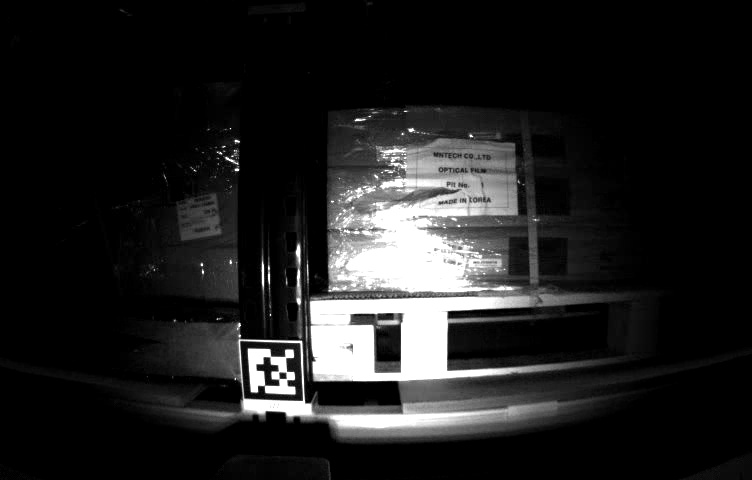True Barcode: (401, 226, 464, 282), (173, 195, 224, 238)
